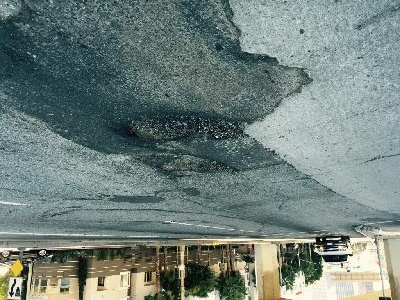pothole: (123, 109, 251, 144), (157, 153, 242, 176)
